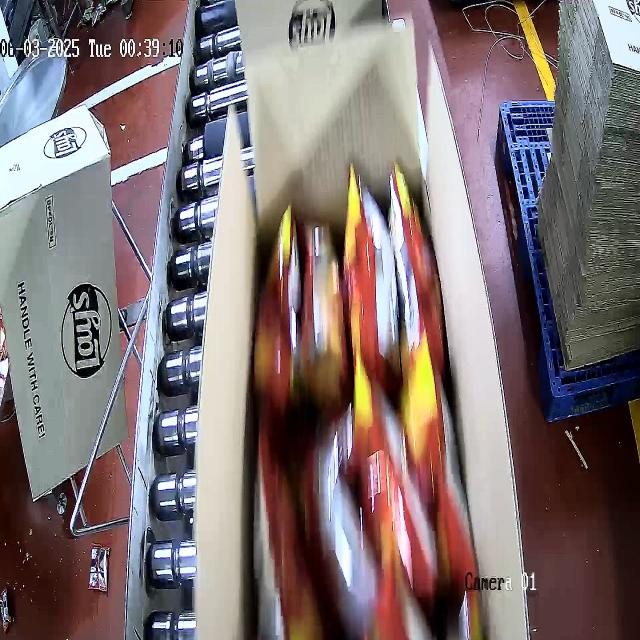MASALA: (252, 158, 481, 638)
